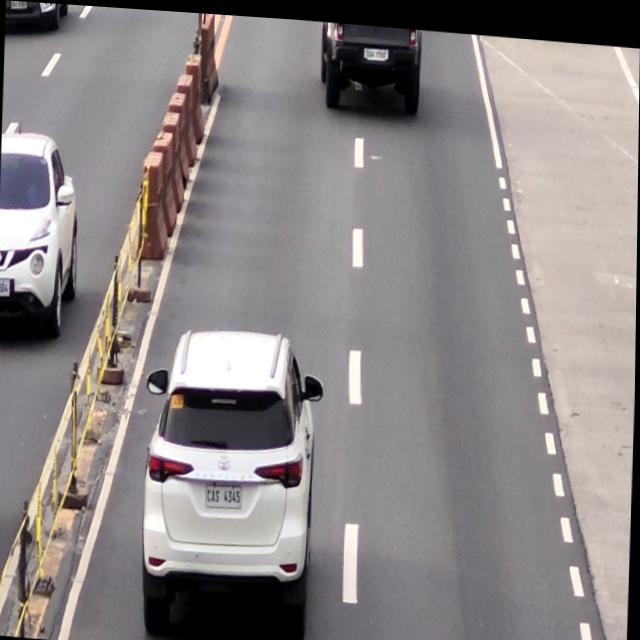Car: (144, 326, 323, 610), (318, 17, 422, 113)
License-Plate: (204, 475, 246, 507), (364, 42, 387, 58)
